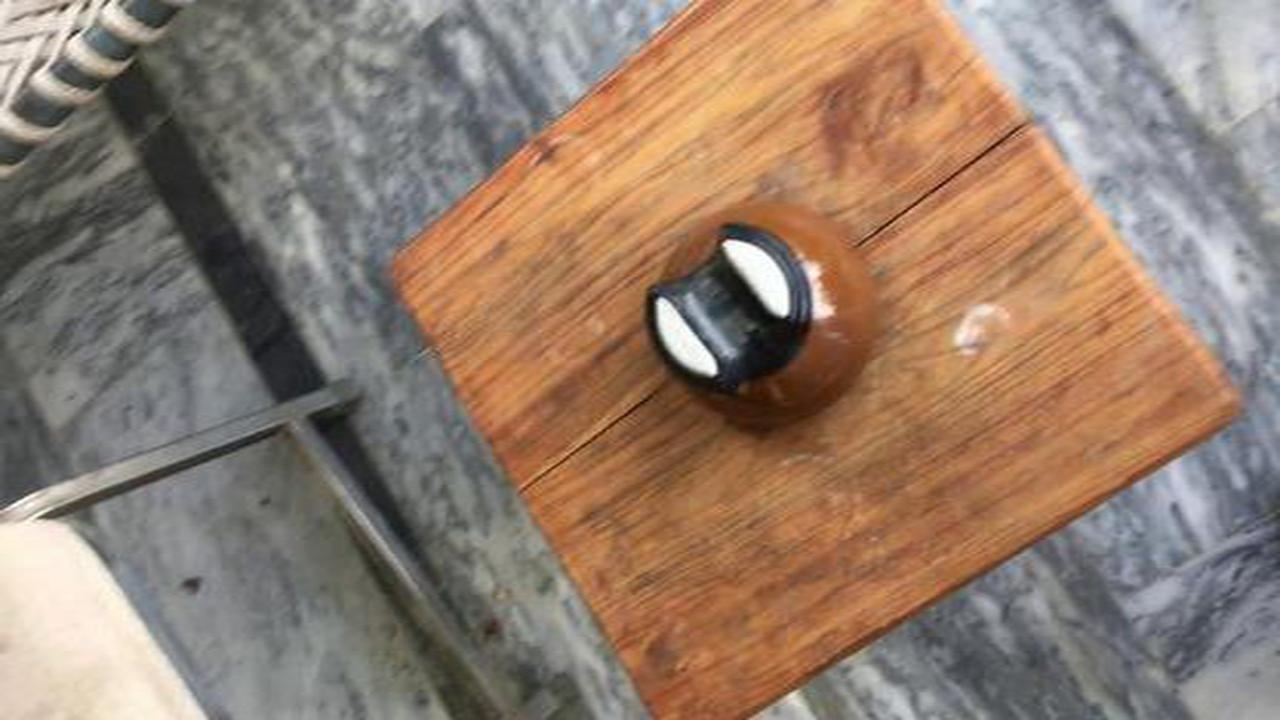insulator_pin: (628, 198, 908, 442)
